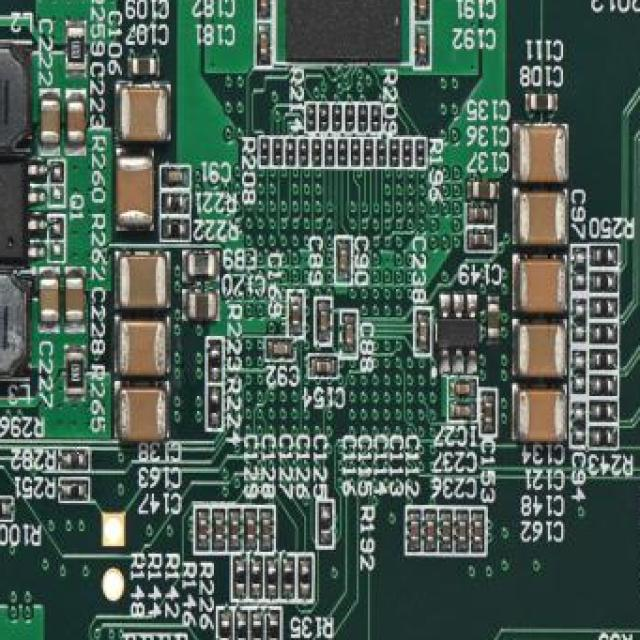IC: (286, 0, 404, 68), (438, 317, 482, 354)
capacitor: (516, 384, 568, 446), (516, 124, 568, 185), (516, 321, 568, 382), (516, 255, 568, 316), (116, 385, 169, 444), (116, 317, 169, 376), (516, 188, 568, 248), (114, 154, 155, 230), (118, 254, 171, 312), (118, 84, 169, 144), (39, 98, 62, 146), (38, 276, 60, 324), (188, 291, 220, 322), (64, 276, 84, 324), (66, 98, 86, 146), (471, 180, 497, 205), (486, 302, 501, 342), (131, 56, 157, 78), (528, 92, 554, 114), (409, 520, 421, 546), (261, 516, 272, 543), (246, 516, 257, 543), (482, 400, 493, 427), (343, 321, 354, 348), (473, 232, 491, 248), (473, 206, 491, 222), (167, 169, 185, 185), (454, 381, 472, 397), (314, 358, 332, 374), (272, 342, 290, 358), (473, 520, 484, 546), (441, 520, 452, 546), (426, 520, 437, 546), (458, 520, 469, 546), (229, 518, 240, 544), (214, 518, 225, 544), (199, 518, 210, 544), (418, 318, 429, 344), (291, 302, 301, 330), (259, 30, 269, 57), (417, 32, 427, 59), (338, 246, 348, 273), (319, 306, 329, 333), (454, 404, 472, 419), (417, 0, 426, 13), (258, 0, 268, 11)
inductor: (0, 41, 34, 152), (0, 270, 34, 378), (186, 252, 217, 280)
resistor: (64, 349, 85, 397), (66, 24, 87, 72), (595, 428, 614, 446), (595, 377, 614, 395), (595, 351, 614, 369), (595, 324, 614, 342), (595, 298, 614, 316), (595, 274, 614, 292), (595, 246, 614, 264), (210, 348, 222, 376), (300, 565, 312, 593), (236, 563, 248, 591), (283, 565, 295, 593), (266, 565, 278, 593), (251, 563, 263, 591), (210, 394, 222, 422), (66, 452, 84, 470), (595, 404, 614, 421), (167, 193, 186, 210), (66, 484, 84, 501), (165, 222, 184, 238), (321, 511, 332, 538), (221, 617, 233, 640), (268, 617, 280, 640), (251, 617, 263, 640), (236, 617, 248, 640), (390, 144, 399, 164), (285, 142, 294, 162), (298, 144, 307, 164), (403, 144, 412, 164), (377, 144, 386, 164), (313, 144, 322, 164), (364, 144, 373, 164), (358, 109, 367, 128), (334, 109, 343, 128), (345, 109, 354, 128), (417, 144, 425, 164), (261, 142, 269, 162), (274, 142, 282, 162), (325, 142, 333, 162), (338, 142, 346, 162), (353, 142, 361, 162), (372, 109, 380, 128), (308, 107, 316, 126), (321, 109, 328, 128), (0, 501, 6, 516)
transistor: (0, 158, 28, 266)
